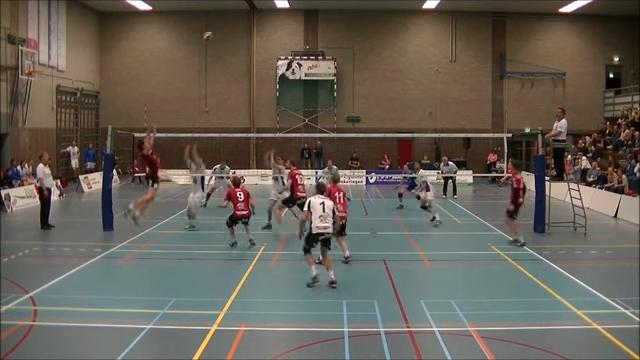attacco: (121, 120, 161, 227)
